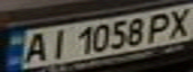0: (90, 20, 115, 53)
1: (72, 24, 96, 55)
5: (109, 18, 133, 51)
8: (124, 15, 151, 46)
A: (18, 30, 51, 64)
I: (42, 27, 72, 60)
P: (142, 10, 178, 43)
X: (160, 6, 193, 38)
